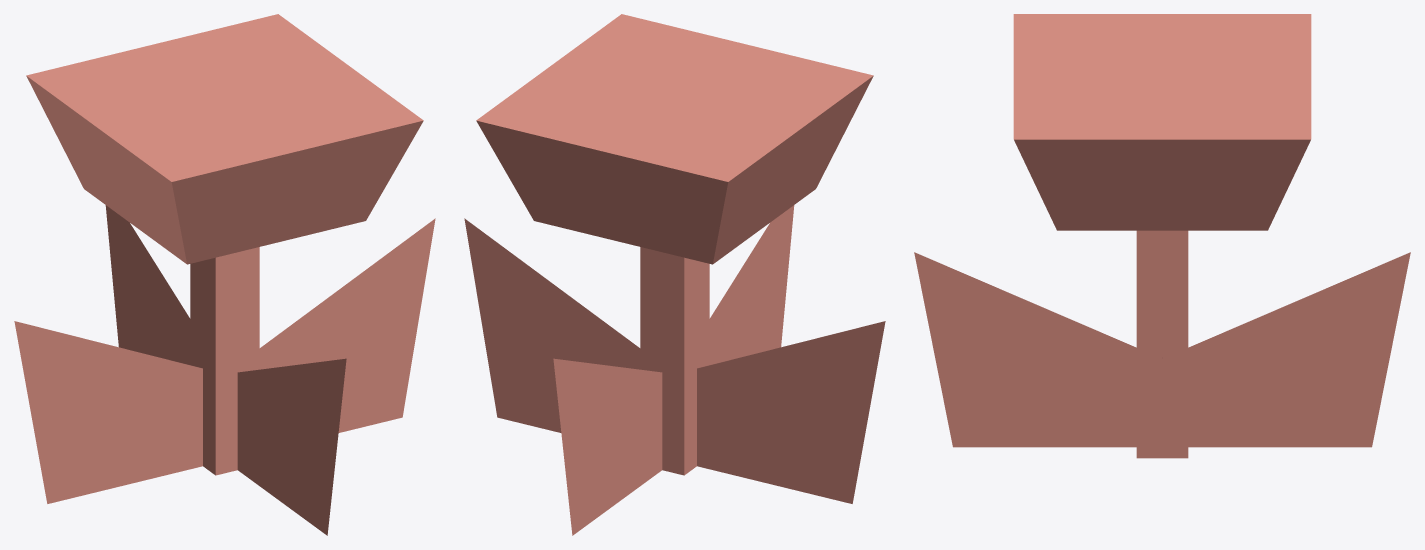
Rendered from naturePack_flat_010.fbx.
3 views of the same model, side by side, from view 1: azimuth 30°, elevation 25°; view 2: azimuth 150°, elevation 25°; view 3: azimuth 270°, elevation 25° (orthographic). The views are drawn at different scales.
Visible parts, largest first — view 1: naturePack_flat_010; view 2: naturePack_flat_010; view 3: naturePack_flat_010.
Boxes of the visible parts, box(x1,y1,x2,y2) form: naturePack_flat_010: box(14, 14, 435, 535); naturePack_flat_010: box(464, 14, 885, 535); naturePack_flat_010: box(914, 14, 1410, 458).
Size of the model in its own units: 48.59 by 40 by 48.59.
